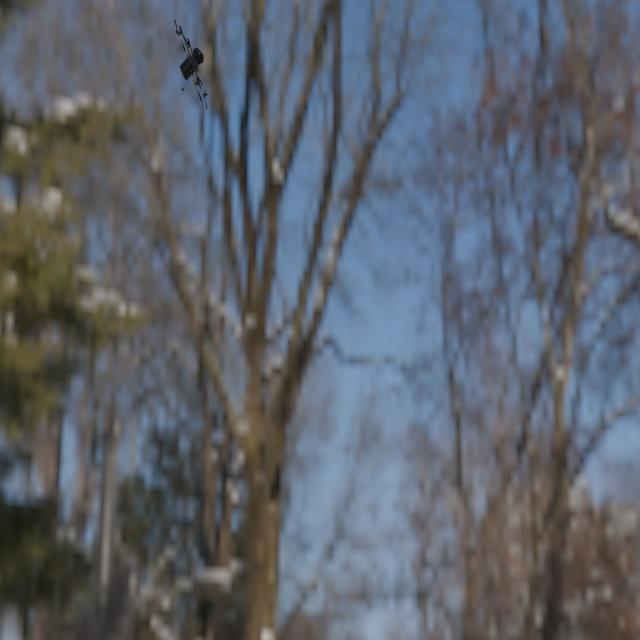drone: (174, 20, 208, 110)
